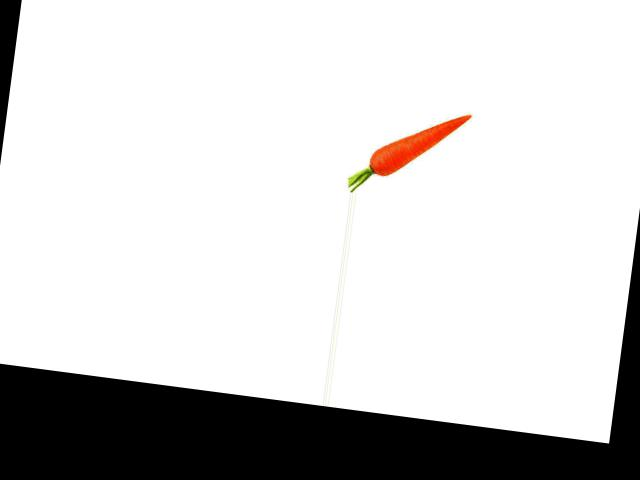carrot: (361, 99, 473, 188)
